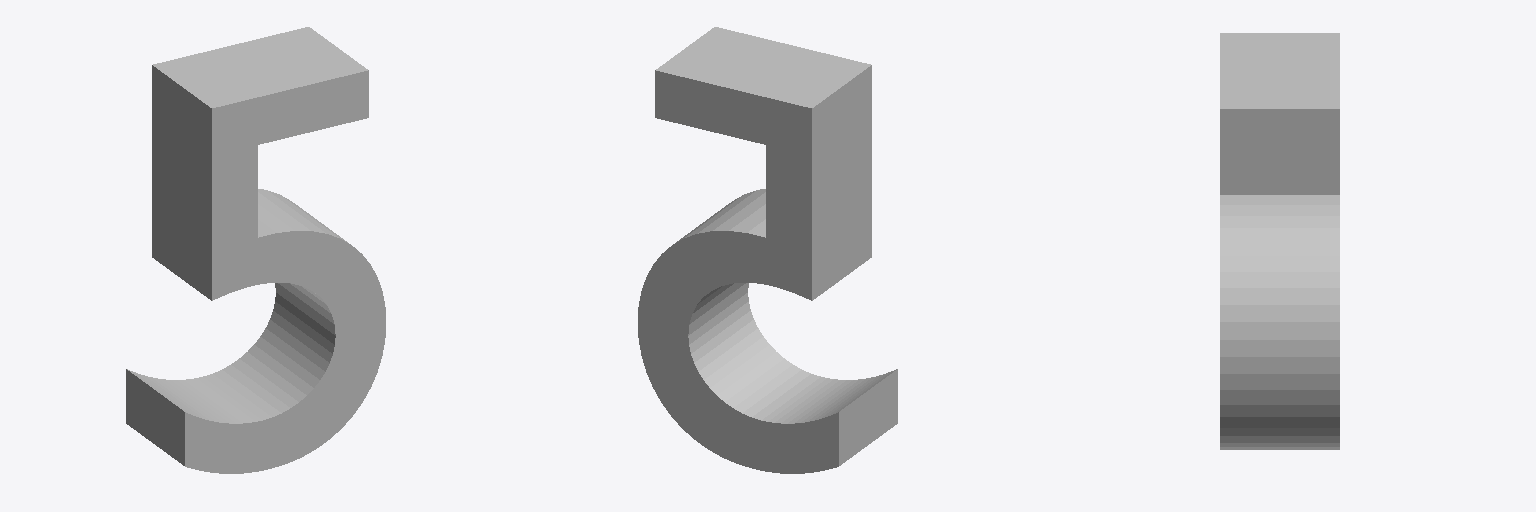
Rendered from fiveNoHyph.obj.
3 views of the same model, side by side, from view 1: azimuth 30°, elevation 25°; view 2: azimuth 150°, elevation 25°; view 3: azimuth 270°, elevation 25° (orthographic).
Parts seen in each view (by area): view 1: Blue_Team__Text; view 2: Blue_Team__Text; view 3: Blue_Team__Text.
Part boxes in pixels (left/top/right/bottom): Blue_Team__Text: left=126, top=27, right=385, bottom=473; Blue_Team__Text: left=638, top=27, right=897, bottom=473; Blue_Team__Text: left=1220, top=33, right=1339, bottom=449.
Size of the model in its own units: 0.388 by 0.691 by 0.2.